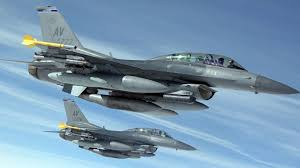fighter: (8, 4, 299, 119), (48, 97, 199, 160)
